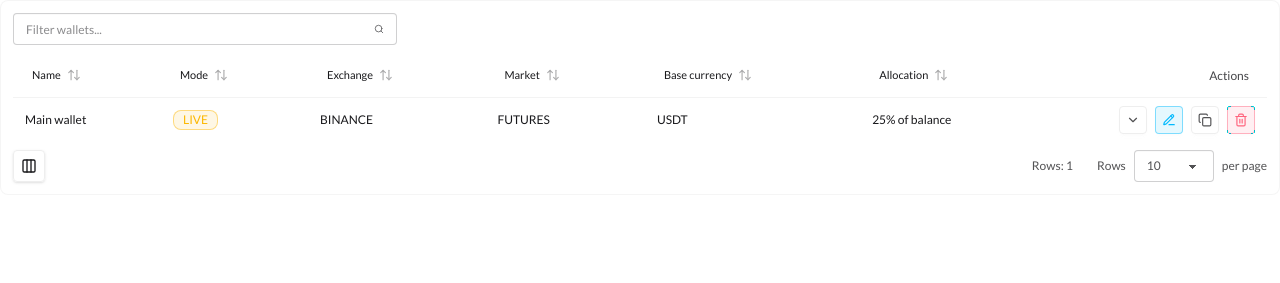
Scenario: WalletsListTable › shows expandable wallet details row
Click the button named "Details": (1133,120) top-left (1119, 106), bottom-right (1147, 134)
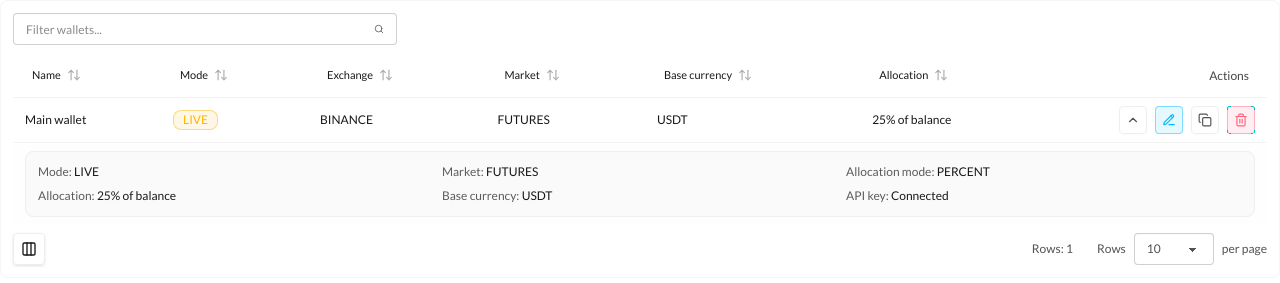
Result: the text "Allocation mode:" is shown at top-left (846, 164), bottom-right (937, 179)
Result: the text "API key:" is shown at top-left (846, 188), bottom-right (891, 203)
